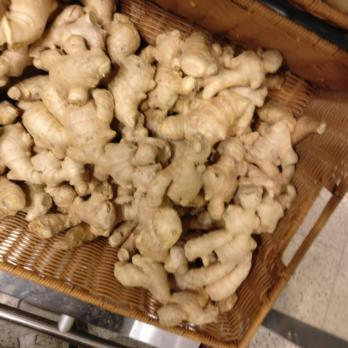Ginger: (139, 29, 267, 326), (0, 1, 137, 253), (253, 93, 311, 231)
